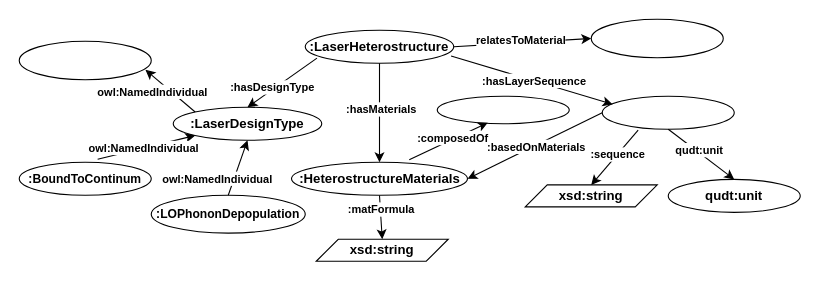
This 820x281 diagram has some shape labels left out. The centre of each missing label's shape, as x and y in pixels:
":DoubleResonant" goes at point 84,60.
":LayerSequence" goes at point 667,112.
"chEBI:Atom" goes at point 502,109.
"EMMO:Material" goes at point 656,38.
